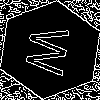W: (25, 25, 80, 78)
